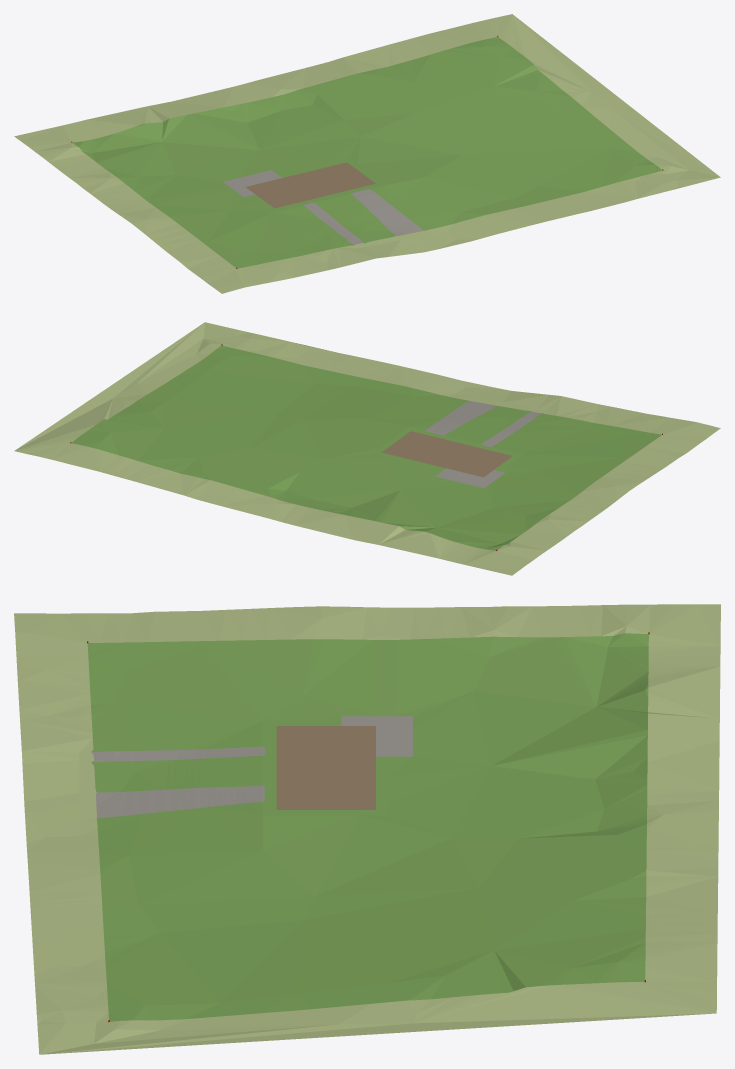
The model's file is teren.glb.
3 renders of one model, top to bottom at view 1: azimuth 30°, elevation 25°; view 2: azimuth 150°, elevation 25°; view 3: azimuth 270°, elevation 25°, orthographic. The views are drawn at different scales.
Visible parts, largest first — view 1: Teren – działka, Teren – otoczenie, Teren – pod budynkami, Teren – utwardzenia; view 2: Teren – działka, Teren – otoczenie, Teren – pod budynkami, Teren – utwardzenia; view 3: Teren – działka, Teren – otoczenie, Teren – pod budynkami, Teren – utwardzenia.
Part boxes in pixels (<box>): Teren – działka: <box>72,37,662,268</box>; Teren – otoczenie: <box>14,14,720,293</box>; Teren – pod budynkami: <box>245,162,375,208</box>; Teren – utwardzenia: <box>223,170,424,245</box>; Teren – działka: <box>71,345,661,550</box>; Teren – otoczenie: <box>14,322,720,575</box>; Teren – pod budynkami: <box>382,431,512,477</box>; Teren – utwardzenia: <box>425,400,541,488</box>; Teren – działka: <box>87,633,648,1021</box>; Teren – otoczenie: <box>14,604,720,1054</box>; Teren – pod budynkami: <box>276,726,375,809</box>; Teren – utwardzenia: <box>91,716,412,818</box>.
Size of the model in its own units: 83.06 by 3.6 by 59.08.
